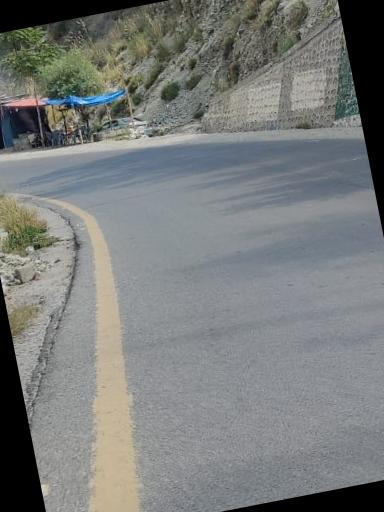left_turn: (0, 31, 384, 330)
